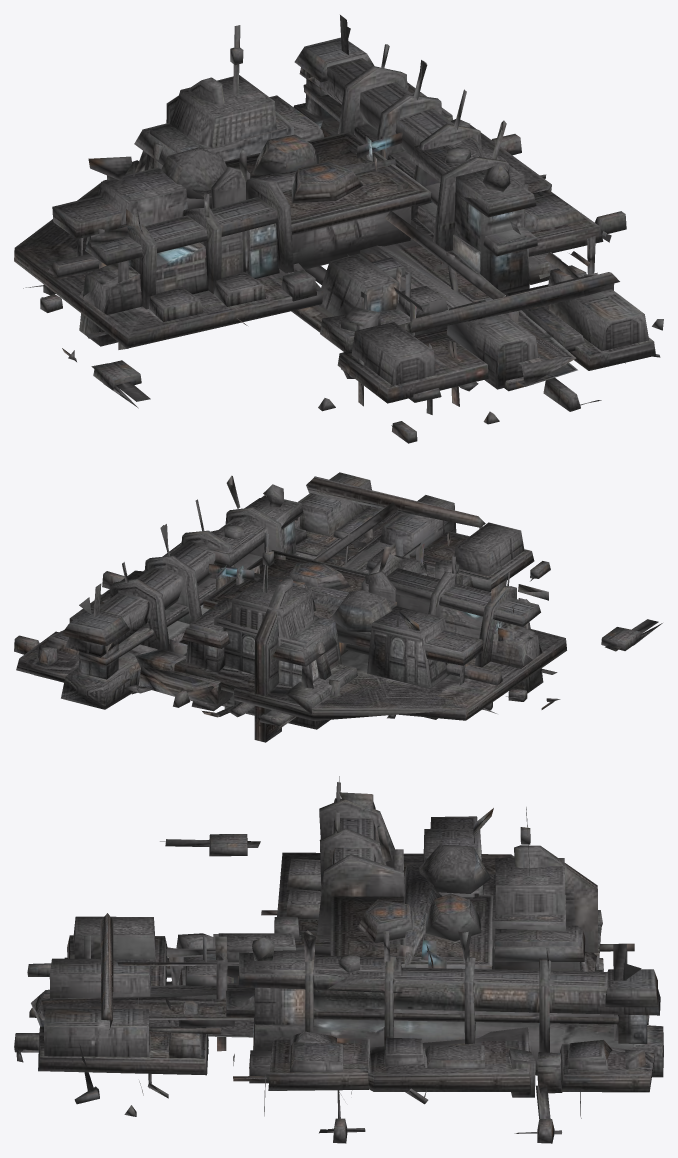
File: truck_stop_station.glb
3 views of the same model, one above another, from view 1: azimuth 30°, elevation 25°; view 2: azimuth 150°, elevation 25°; view 3: azimuth 270°, elevation 25° (orthographic). The views are drawn at different scales.
Bounding box in the file's own units: 1 × 0.368 × 1.
1 material, 1 textured.
